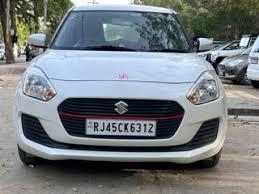non-ambulance: (14, 5, 226, 166), (211, 35, 255, 68), (218, 47, 252, 84), (247, 37, 258, 87), (0, 43, 4, 59)
